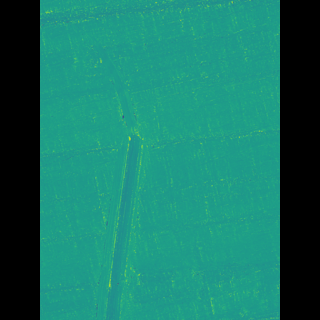Loch: (104, 29, 155, 319)
